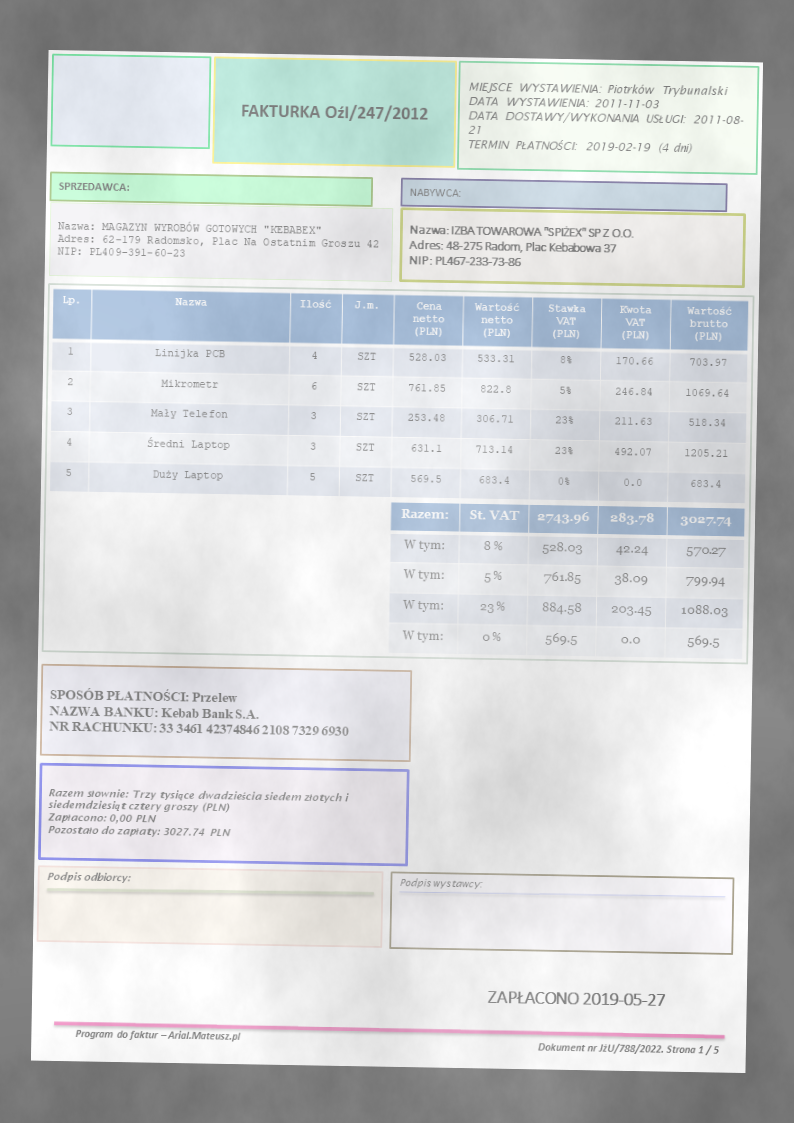Table: (48, 286, 749, 504), (387, 502, 745, 660)
TextBox: (464, 78, 746, 157), (46, 785, 352, 842), (47, 685, 351, 739), (55, 219, 380, 264), (406, 223, 634, 271), (238, 101, 430, 124), (485, 986, 669, 1009), (535, 1040, 721, 1057), (71, 1026, 244, 1044), (44, 869, 131, 885), (56, 179, 131, 195), (398, 876, 483, 890), (406, 184, 462, 201)
